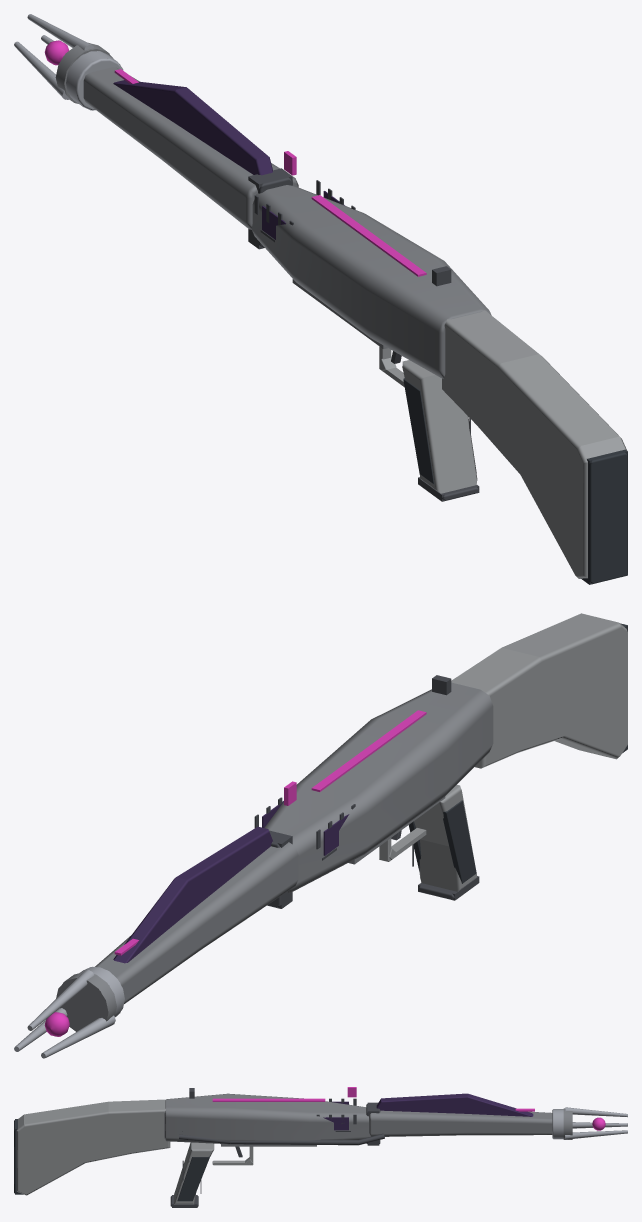
The model's file is espike.glb.
3 renders of one model, top to bottom at view 1: azimuth 30°, elevation 25°; view 2: azimuth 150°, elevation 25°; view 3: azimuth 270°, elevation 25°, orthographic. The views are drawn at different scales.
Visible parts, largest first — view 1: L0, L1; view 2: L0, L1; view 3: L0, L1.
Boxes of the visible parts, <box> form: L0: <box>14,14,627,583</box>; L1: <box>15,14,627,584</box>; L0: <box>14,613,627,1058</box>; L1: <box>14,624,627,1058</box>; L0: <box>14,1087,627,1206</box>; L1: <box>15,1102,627,1207</box>.
Size of the model in its own units: 0.0783 by 0.1989 by 0.958.
